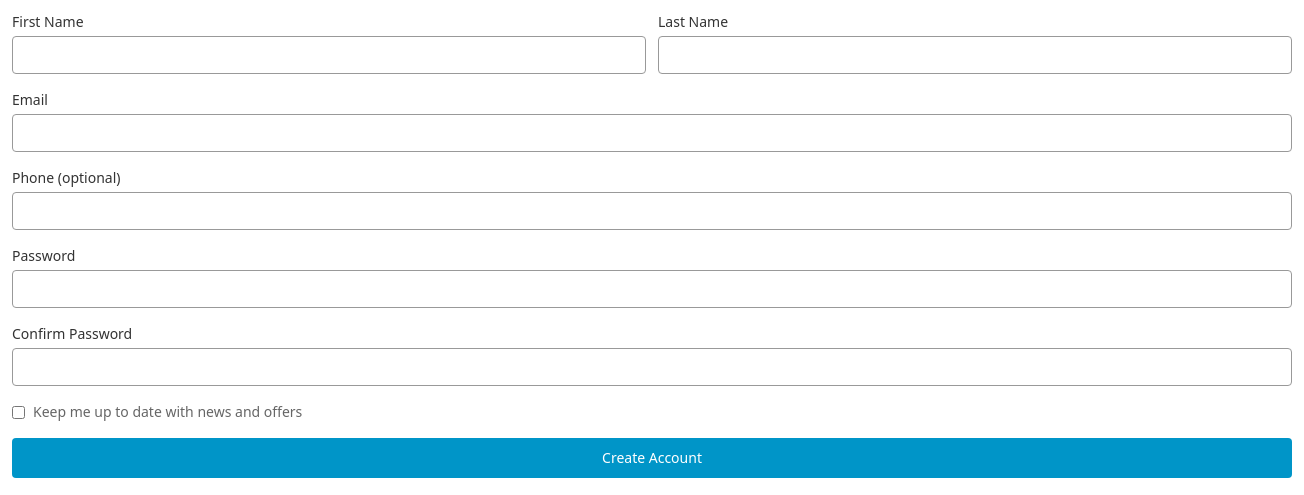
Test: CredentialsStep › shows loading state on button while submitting
The width and height of the screenshot is (1304, 495).
In the field labelled "First Name": (329, 55) left=12, top=36, right=646, bottom=74, type "John"
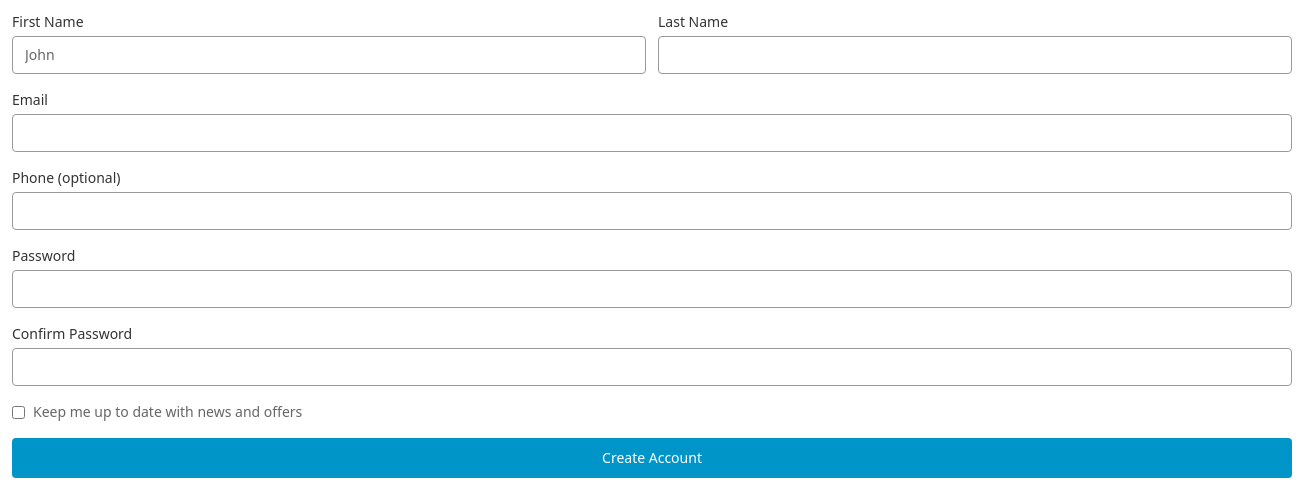
In the field labelled "Last Name": (975, 55) left=658, top=36, right=1292, bottom=74, type "Doe"
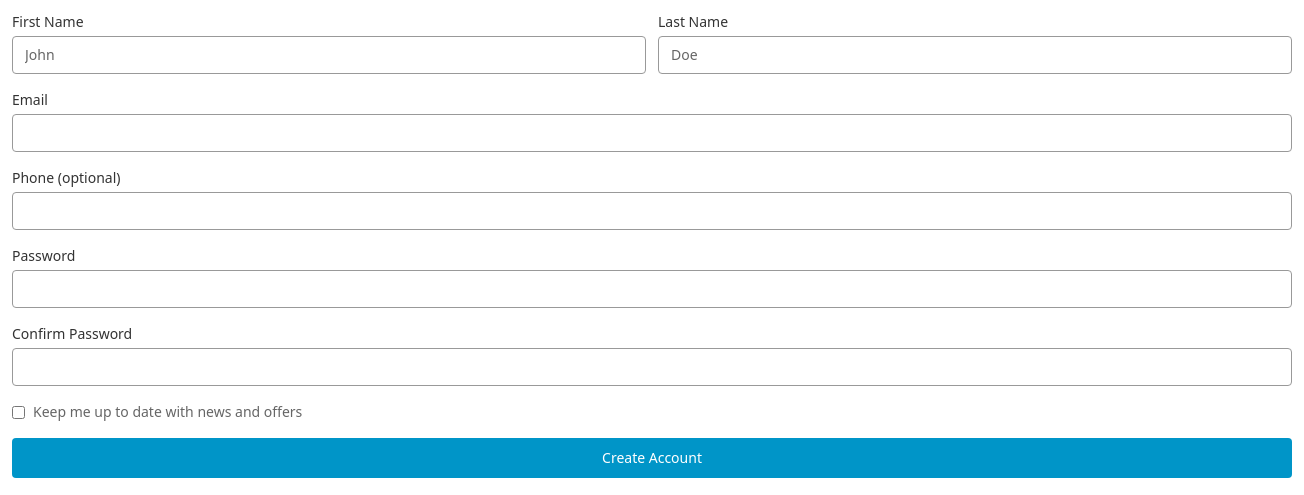
In the field labelled "Email": (652, 133) left=12, top=114, right=1292, bottom=152, type "john@test.com"
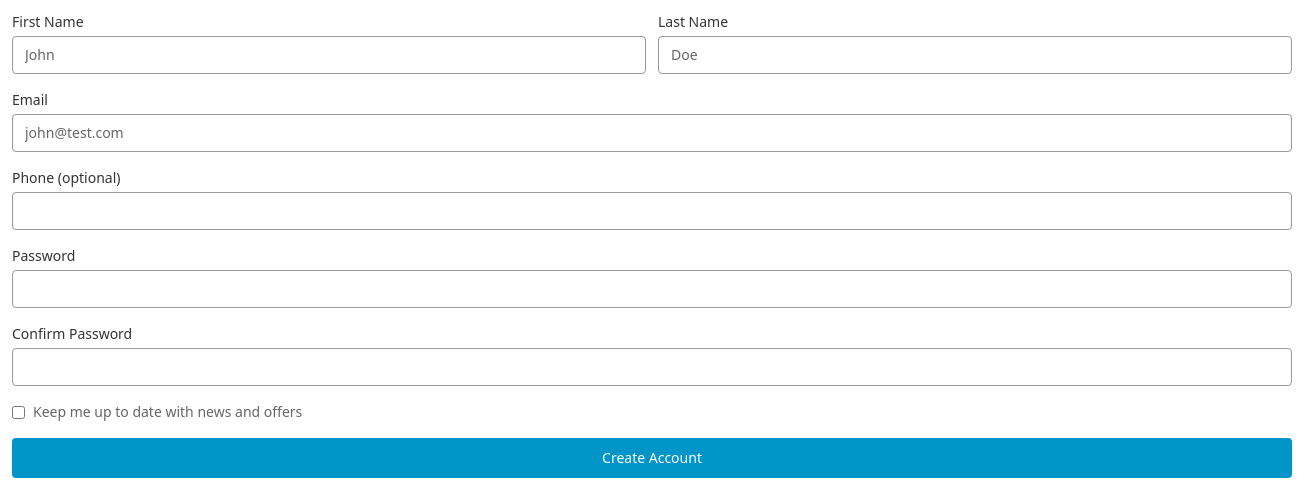
In the password field labelled "Password": (652, 289) left=12, top=270, right=1292, bottom=308, type "password1"
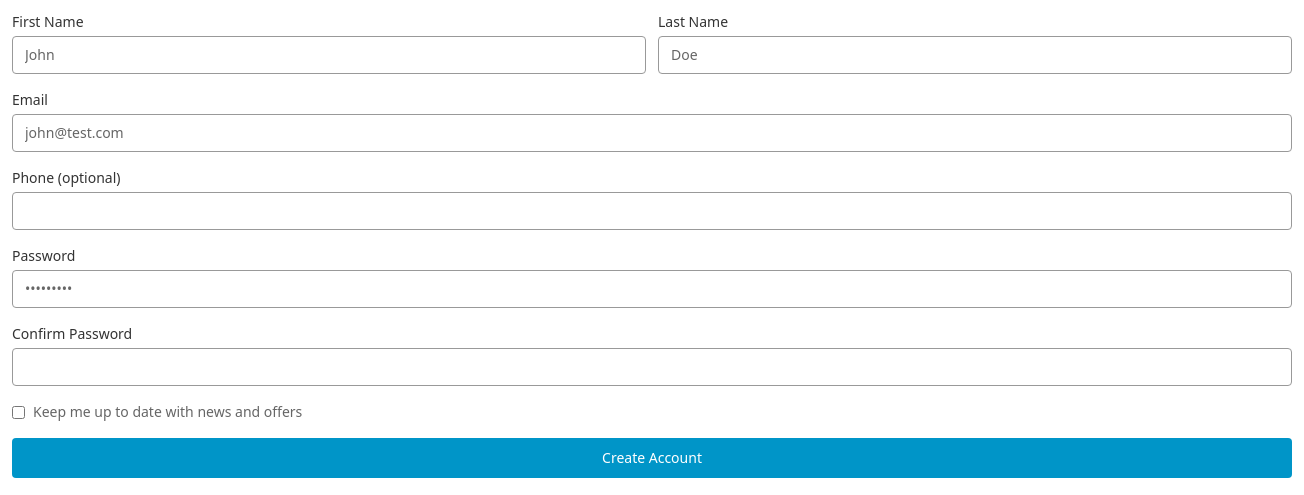
In the password field labelled "Confirm Password": (652, 367) left=12, top=348, right=1292, bottom=386, type "password1"
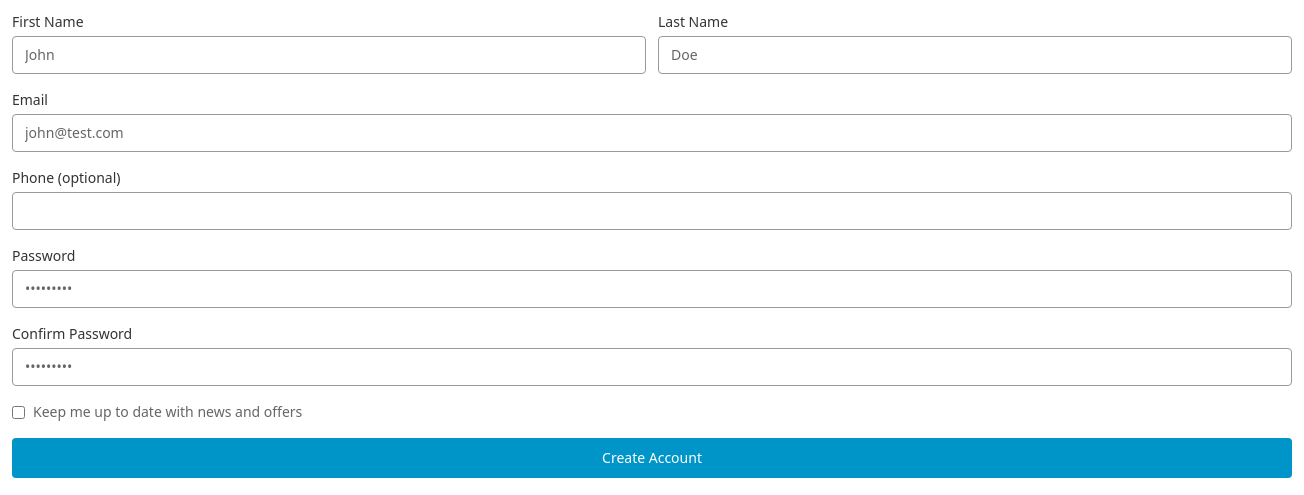
Click the button "Create Account": (652, 458) left=12, top=438, right=1292, bottom=478
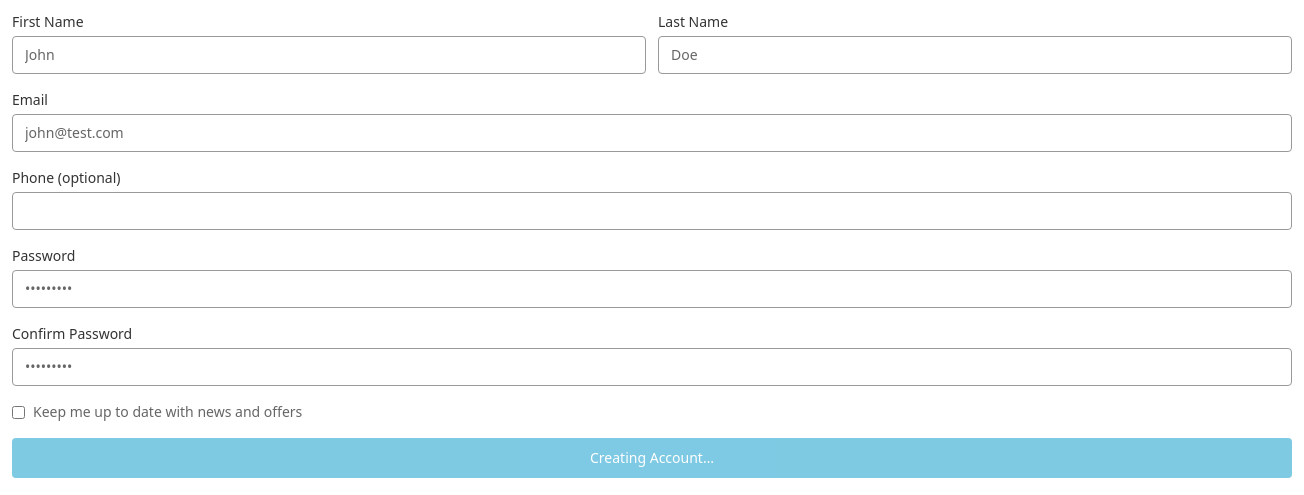
Expected: the button "Creating Account…" is disabled, left=12, top=438, right=1292, bottom=478
